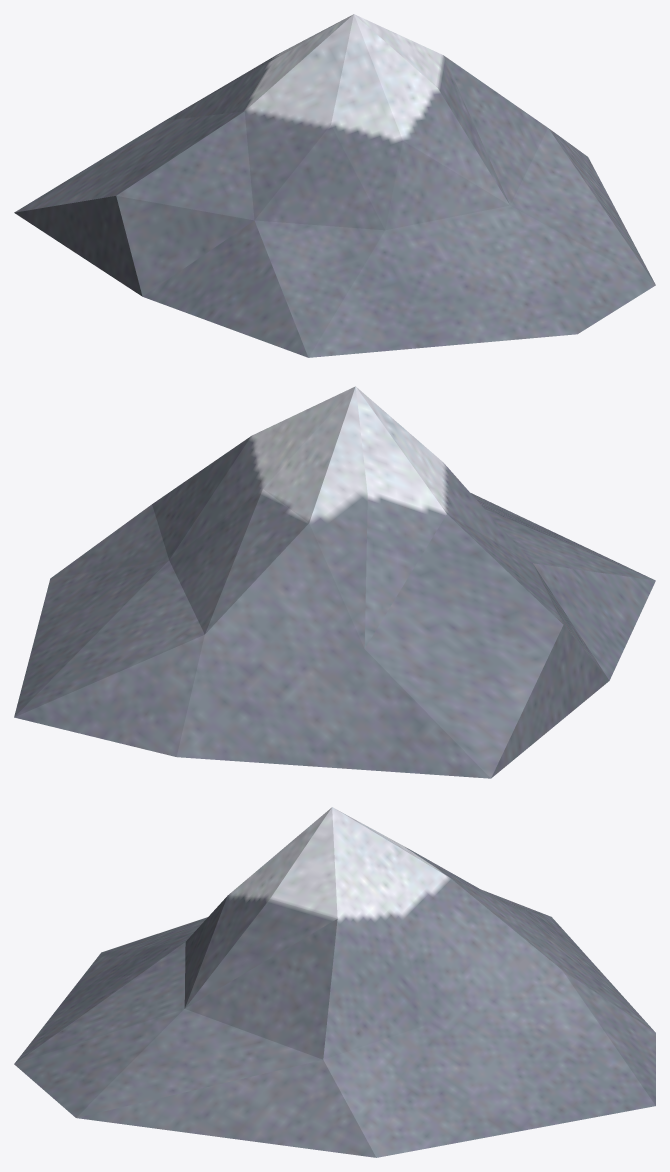
Rendered from SM_Mountain_A.fbx.
3 renders of one model, top to bottom at view 1: azimuth 30°, elevation 25°; view 2: azimuth 150°, elevation 25°; view 3: azimuth 270°, elevation 25°, orthographic. The views are drawn at different scales.
Parts seen in each view (by area): view 1: SM_Mountain_A; view 2: SM_Mountain_A; view 3: SM_Mountain_A.
Part boxes in pixels (<box>): SM_Mountain_A: <box>14,14,655,357</box>; SM_Mountain_A: <box>14,386,655,778</box>; SM_Mountain_A: <box>14,807,655,1157</box>.
Size of the model in its own units: 78360 by 34000 by 88206.
1 material, 1 textured.
